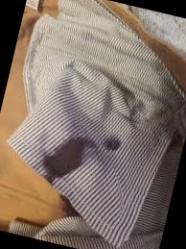ink: (41, 135, 87, 187), (103, 137, 122, 155)
